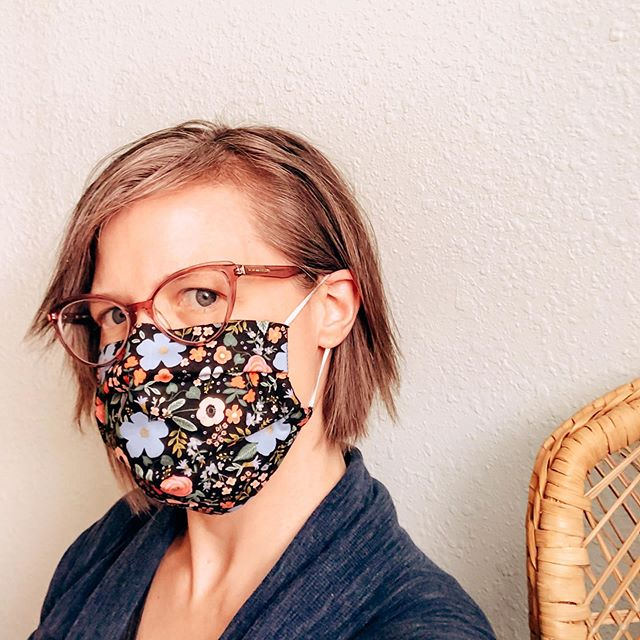homemade: (67, 324, 313, 516)
